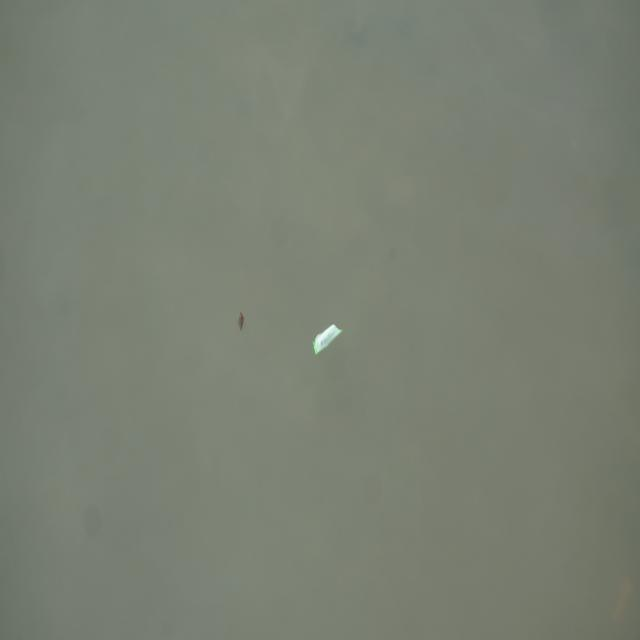Bungkus Makanan: (313, 322, 344, 358)
